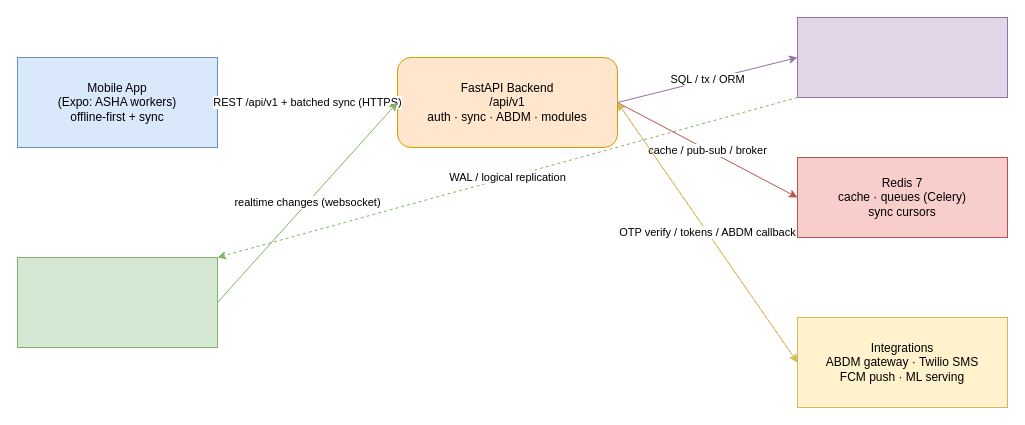
The diagram is 1025 pixels wide and 425 high, and some of its shapes have lost their labels. The shapes that lost their labels are listed below. From the top down, each one's box as (x1, y1, x2, y2) in pixels, then its label:
(796, 16, 1008, 98): PostgreSQL 16 system of record (asyncpg + Alembic)
(16, 256, 218, 348): Supabase Realtime + Auth (optional) WS /api, WAL changes
